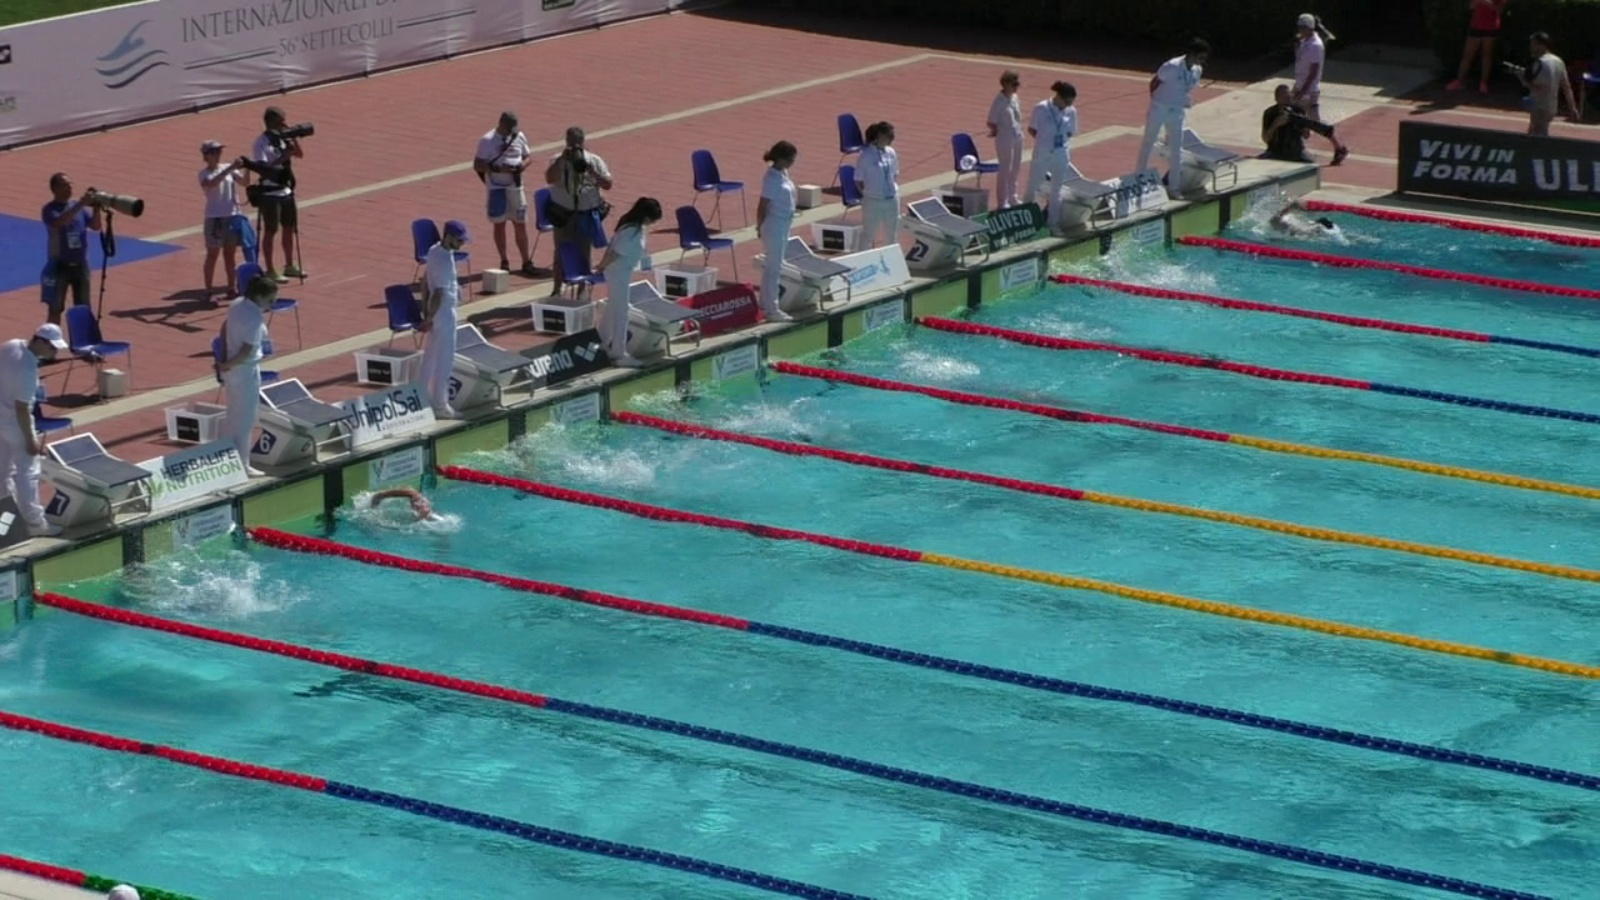swimmerwdd: (889, 360, 1115, 416), (151, 559, 298, 619), (359, 488, 473, 563), (678, 389, 818, 448), (1267, 201, 1379, 255), (511, 436, 631, 485)
